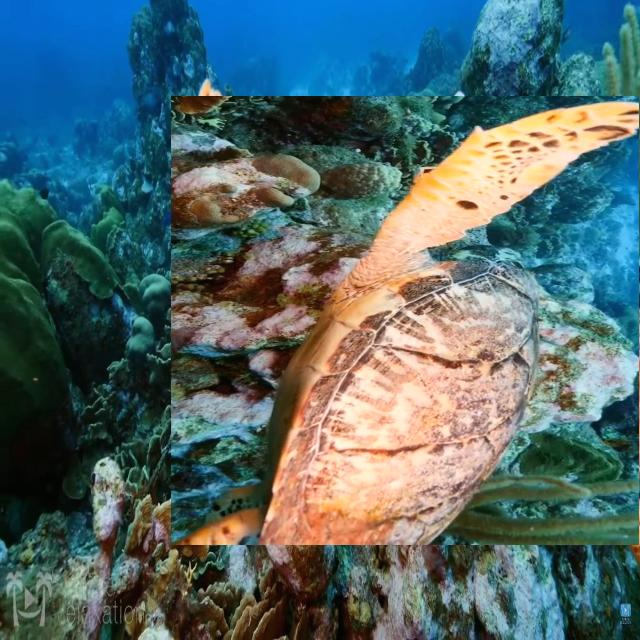Sea turtle: (180, 85, 640, 555)
